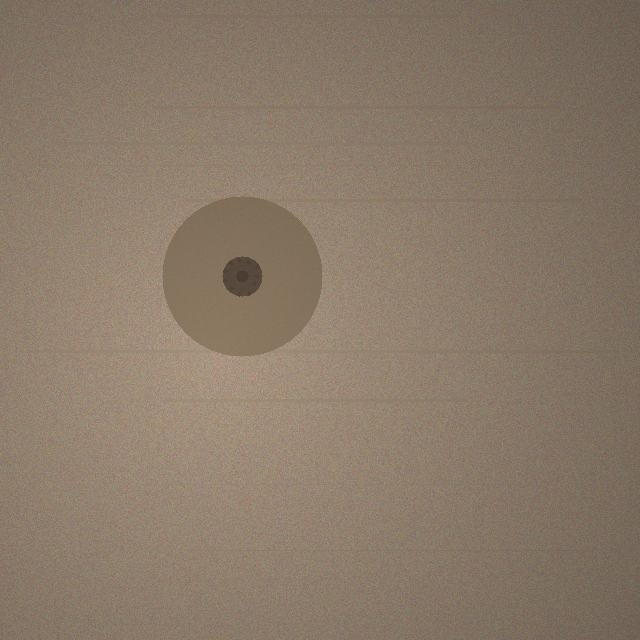cold_weld: (162, 196, 322, 356)
